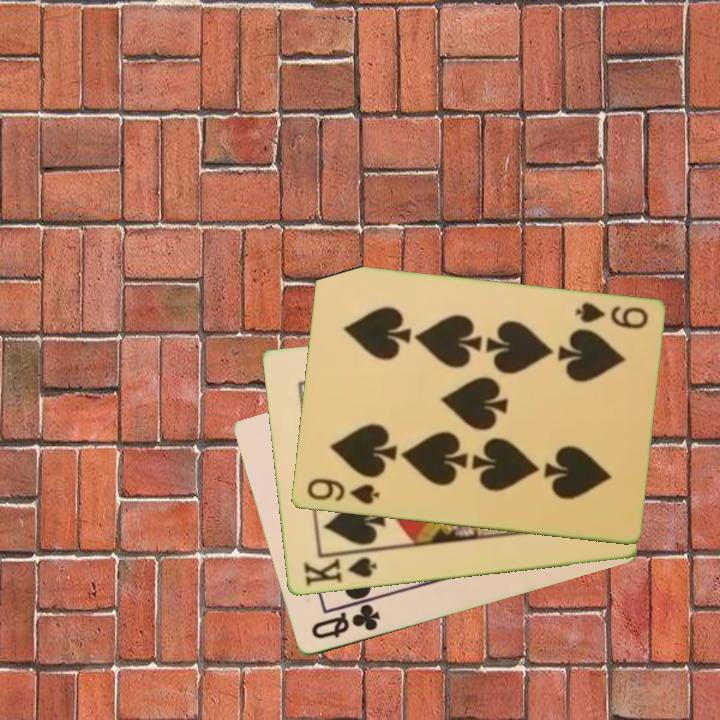9s: (571, 299, 650, 333), (303, 475, 382, 508)
Ks: (299, 549, 380, 590)
Qc: (307, 601, 383, 643)
